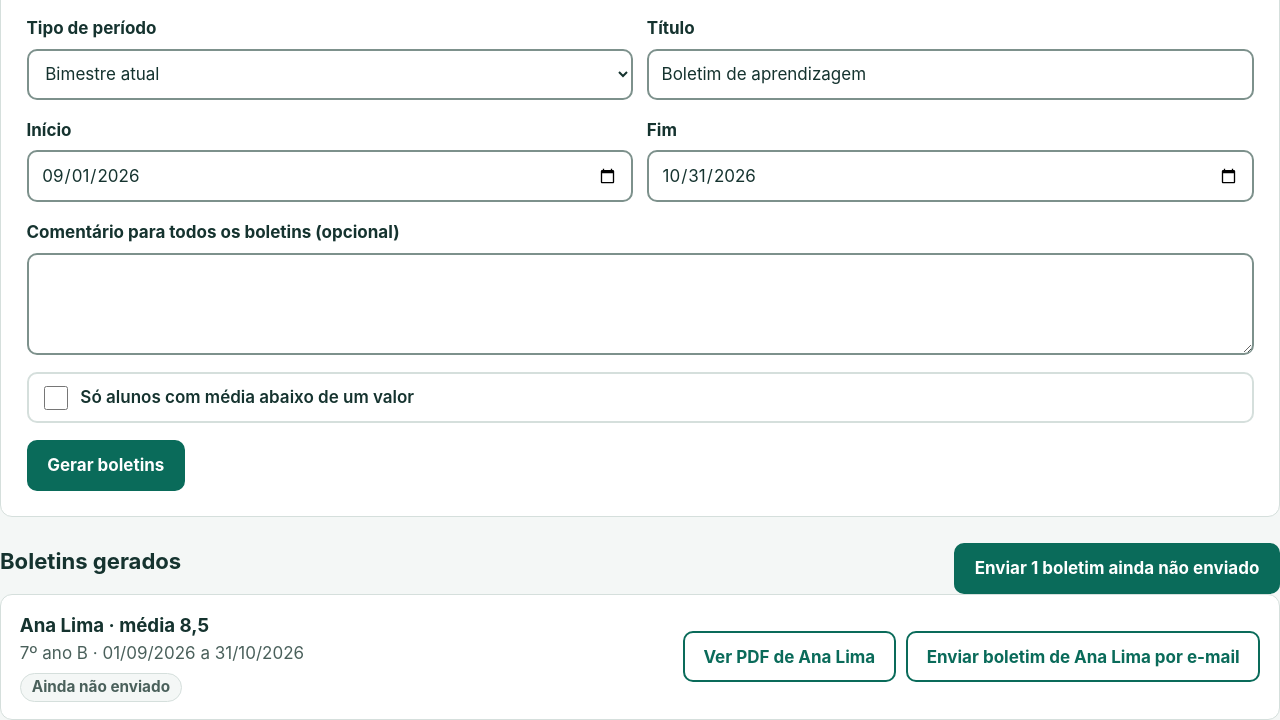
Test: sending bulletins › shows the email address and sends only after confirmation
This screenshot has width=1280, height=720.
(page scrolled)
Click the button "Enviar boletim de Ana Lima por e-mail". click: click(1083, 657)
box: 906,631 -> 1260,682
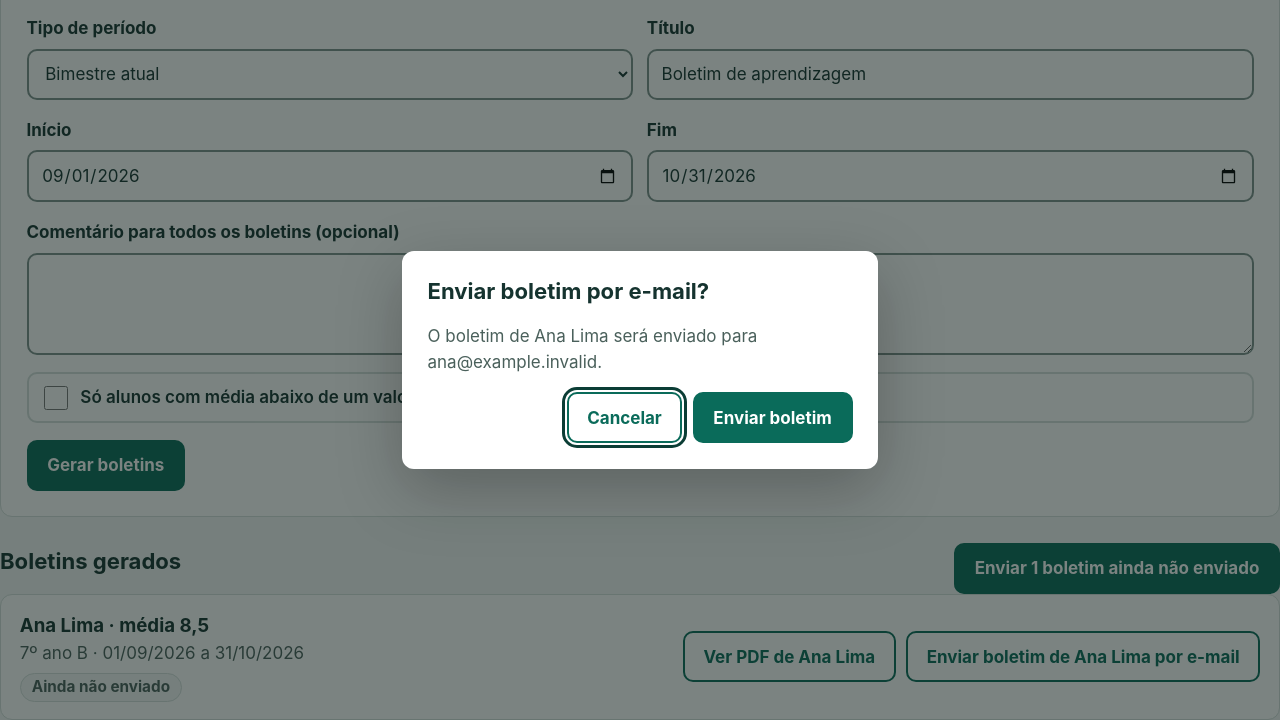
Check: the dialog "Enviar boletim por e-mail?" shows "ana@example.invalid", box 428,326 -> 757,372
Click the button "Cancelar". click: click(624, 418)
box: 566,392 -> 682,443
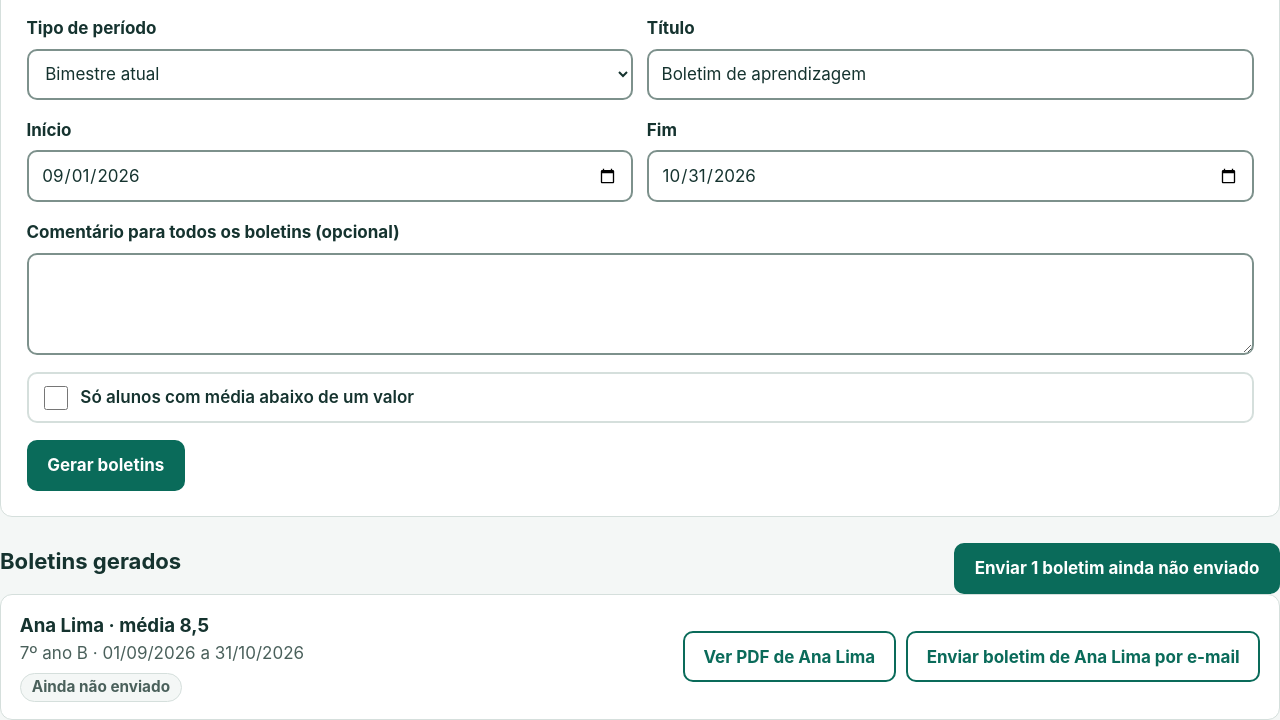
Click the button "Enviar boletim de Ana Lima por e-mail". click: click(1083, 657)
box: 906,631 -> 1260,682
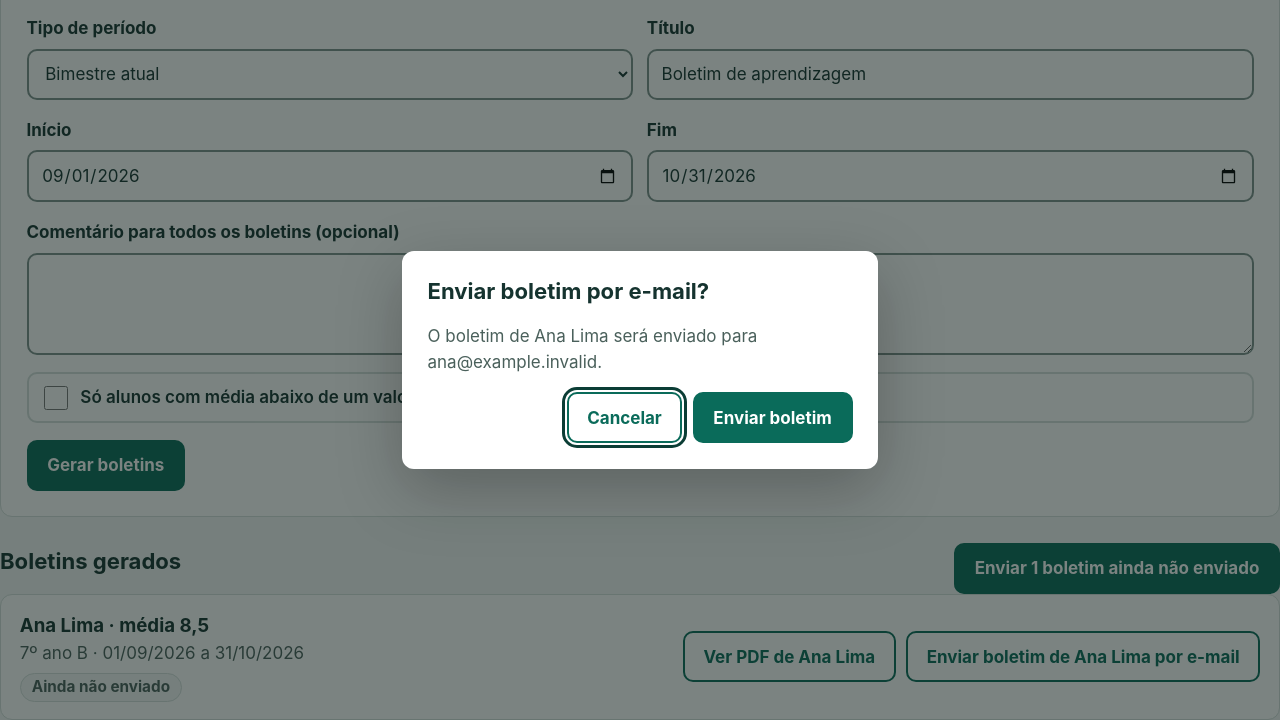
Click the button "Enviar boletim". click: click(773, 418)
box: 693,392 -> 852,443
(page scrolled)
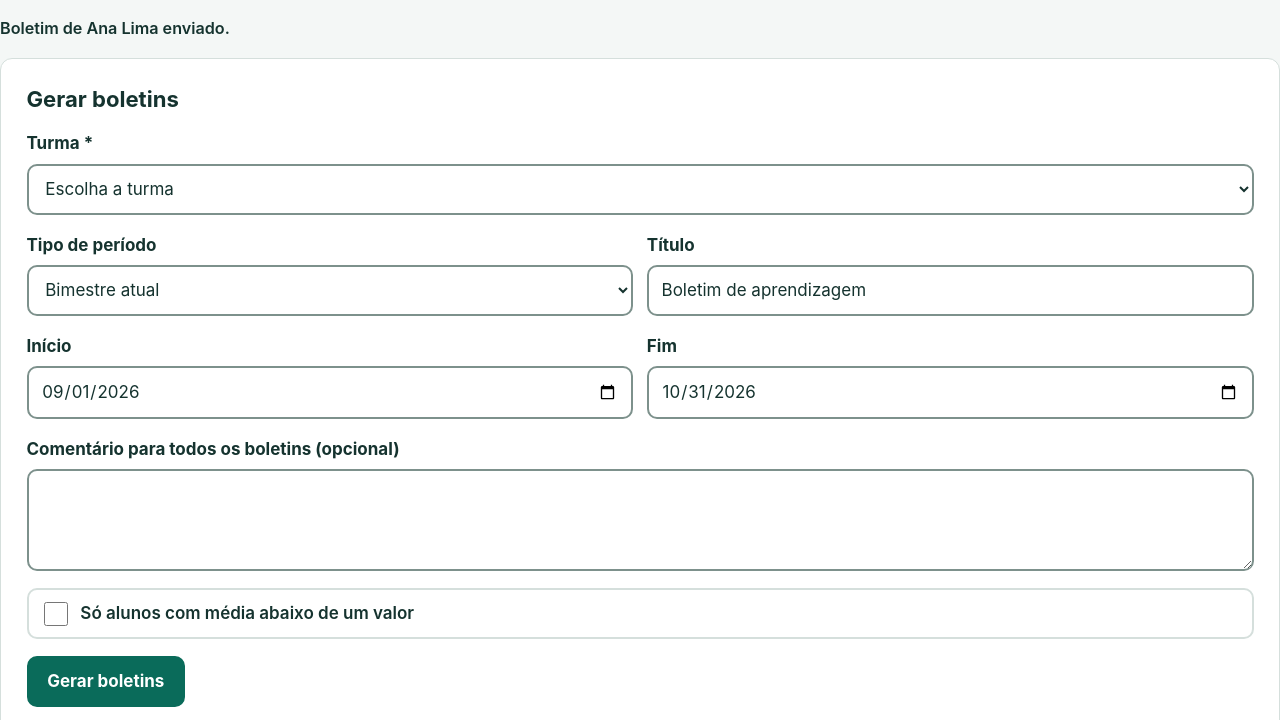
Check: the text "Boletim de Ana Lima enviado." is shown, box 0,18 -> 230,38
